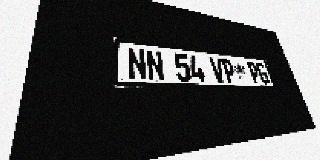4: (188, 54, 206, 82)
5: (173, 53, 192, 82)
G: (255, 62, 270, 84)
N: (127, 47, 147, 80), (145, 50, 165, 81)
P: (220, 58, 237, 83), (246, 61, 262, 84)
V: (209, 57, 226, 83)
